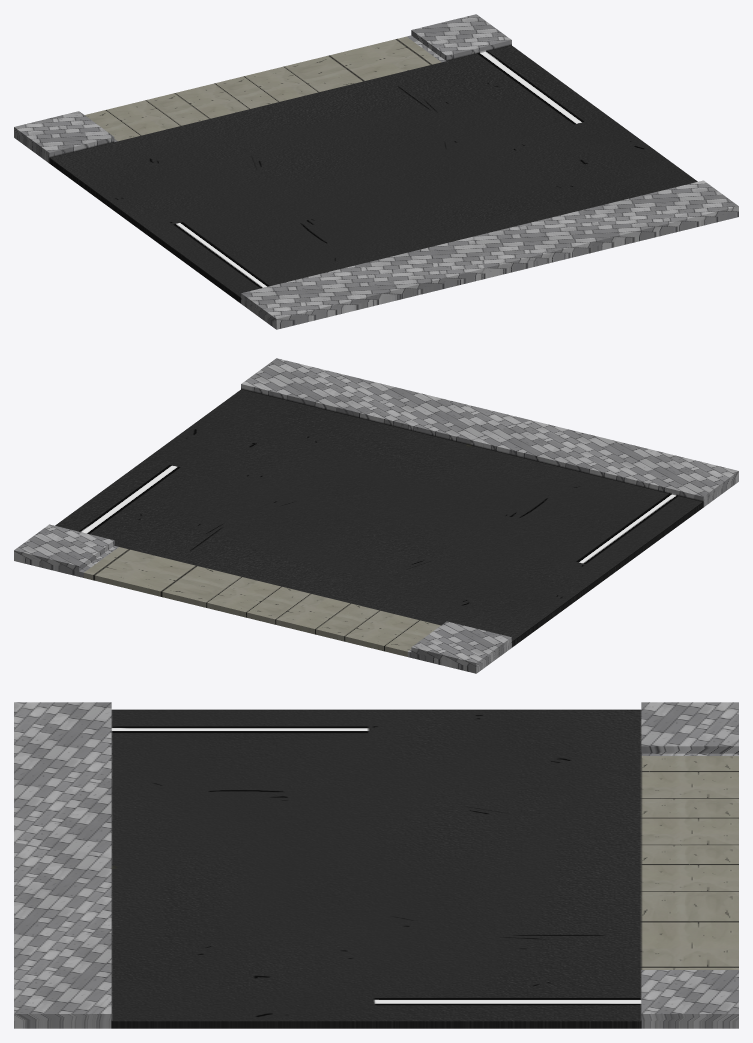
The model's file is t itersection piece done.fbx.
The picture shows the model from 3 angles, top to bottom: view 1: azimuth 30°, elevation 25°; view 2: azimuth 150°, elevation 25°; view 3: azimuth 270°, elevation 25°; orthographic projection. The views are drawn at different scales.
Visible parts, largest first — view 1: polySurface2; view 2: polySurface2; view 3: polySurface2.
Boxes of the visible parts, x1,y1,x2,y2 form: polySurface2: (14, 14, 738, 329); polySurface2: (14, 358, 738, 673); polySurface2: (14, 702, 738, 1028).
Bounding box in the file's own units: 9.05 × 0.2 × 8.9.
